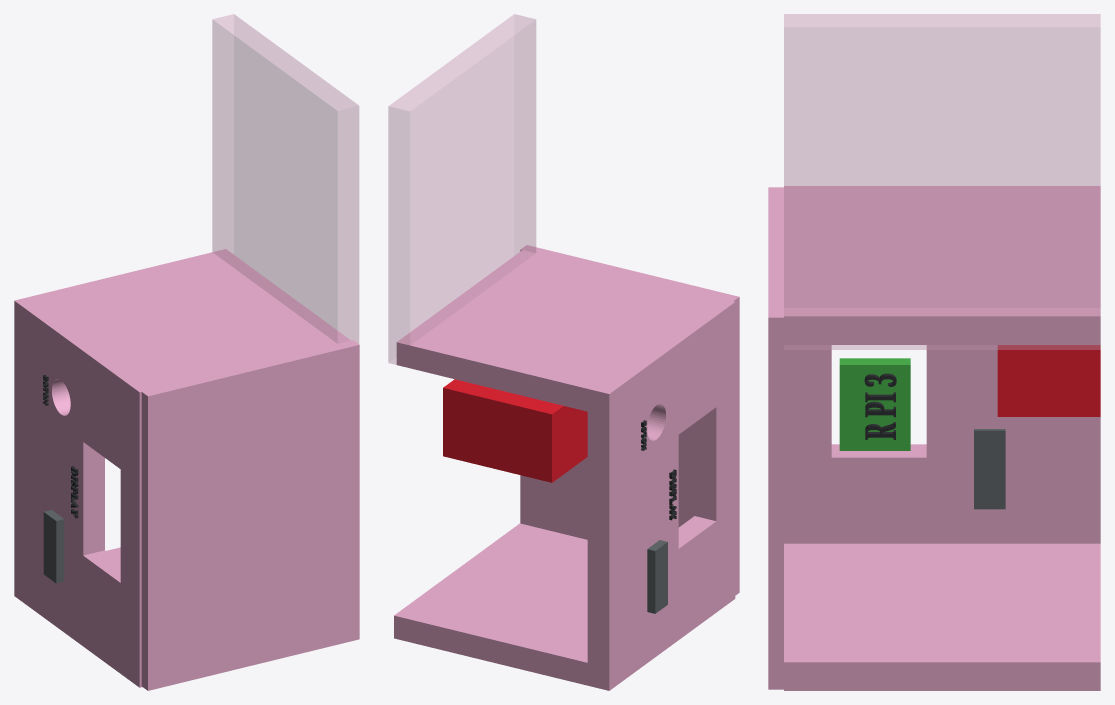
File: tinker.obj
The picture shows the model from 3 angles, left to right: view 1: azimuth 30°, elevation 25°; view 2: azimuth 150°, elevation 25°; view 3: azimuth 270°, elevation 25°; orthographic projection. The views are drawn at different scales.
Parts seen in each view (by area): view 1: group_0_15708628, group_0_-1024478764, group_0_6383466; view 2: group_0_15708628, group_0_-1024478764, group_0_15277357, group_0_6383466; view 3: group_0_15708628, group_0_-1024478764, group_0_15277357, group_0_4634441, group_0_6383466, group_0_2829873.
Boxes of the visible parts, <box> form: group_0_15708628: <box>14,249,359,690</box>; group_0_-1024478764: <box>212,14,358,343</box>; group_0_6383466: <box>43,510,64,583</box>; group_0_15708628: <box>394,245,739,690</box>; group_0_-1024478764: <box>388,14,535,364</box>; group_0_15277357: <box>443,379,587,482</box>; group_0_6383466: <box>647,540,667,613</box>; group_0_15708628: <box>768,186,1100,690</box>; group_0_-1024478764: <box>784,14,1100,349</box>; group_0_15277357: <box>997,345,1100,416</box>; group_0_4634441: <box>839,358,910,450</box>; group_0_6383466: <box>974,429,1005,509</box>; group_0_2829873: <box>864,373,896,439</box>.
Bounding box in the file's own units: 42 × 93 × 42.
